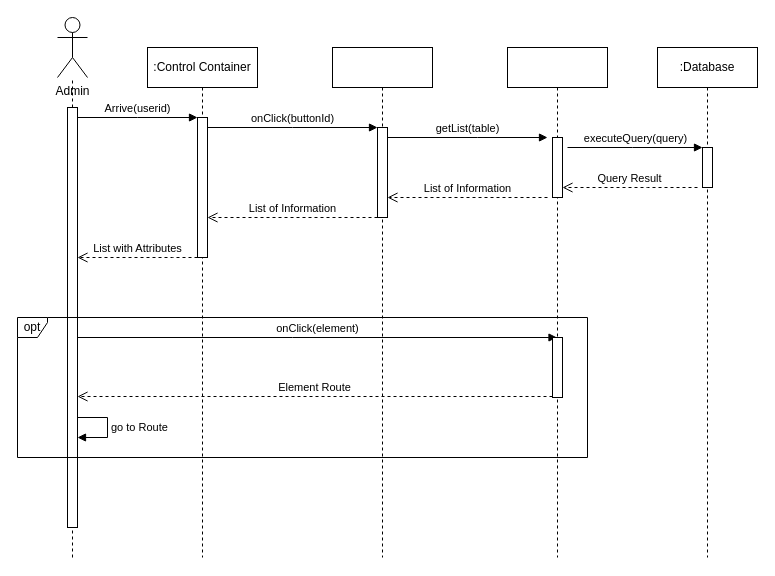
Image size: 775x576. Some labels were removed from this diagram. Each missing label, with the box of its shape:
:Content Panel: (506, 46, 608, 558)
:Side Menu: (332, 46, 432, 558)
